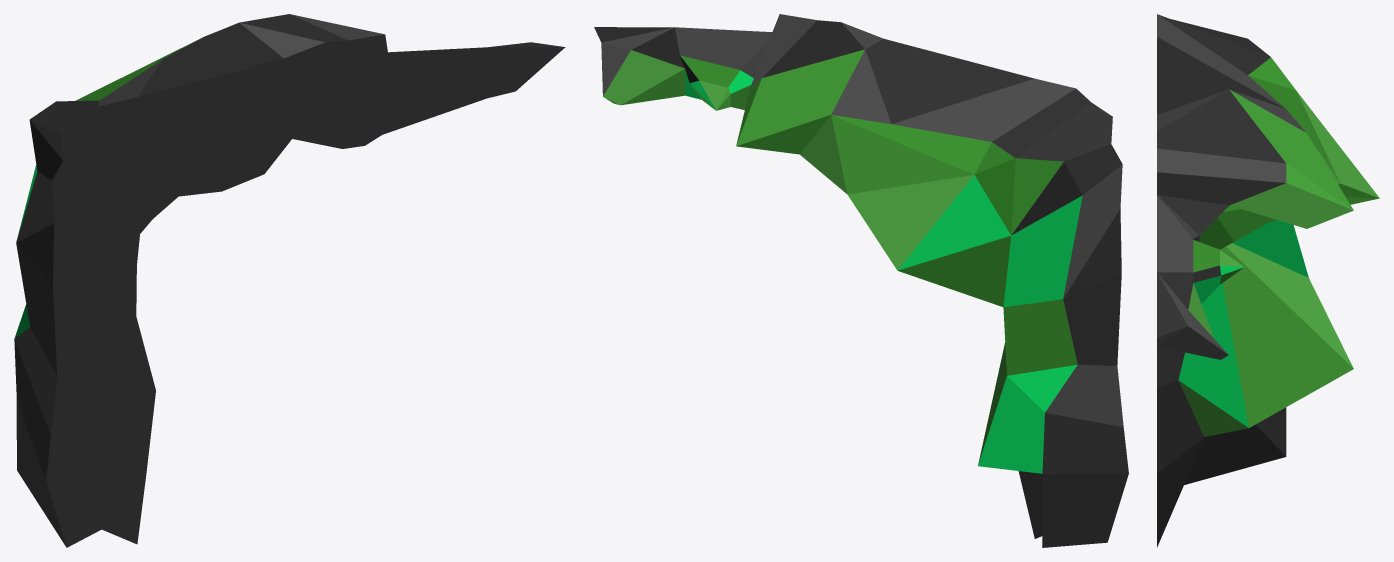
The model's file is fv_middle_mountain_2.fbx.
3 views of the same model, side by side, from view 1: azimuth 30°, elevation 25°; view 2: azimuth 150°, elevation 25°; view 3: azimuth 270°, elevation 25° (orthographic). The views are drawn at different scales.
Parts seen in each view (by area): view 1: desert_middle_mountain_3.001; view 2: desert_middle_mountain_3.001; view 3: desert_middle_mountain_3.001.
Boxes of the visible parts, x1,y1,x2,y2 form: desert_middle_mountain_3.001: (14, 14, 565, 547); desert_middle_mountain_3.001: (594, 14, 1128, 547); desert_middle_mountain_3.001: (1157, 14, 1379, 547).
Size of the model in its own units: 1058 by 907 by 344.
